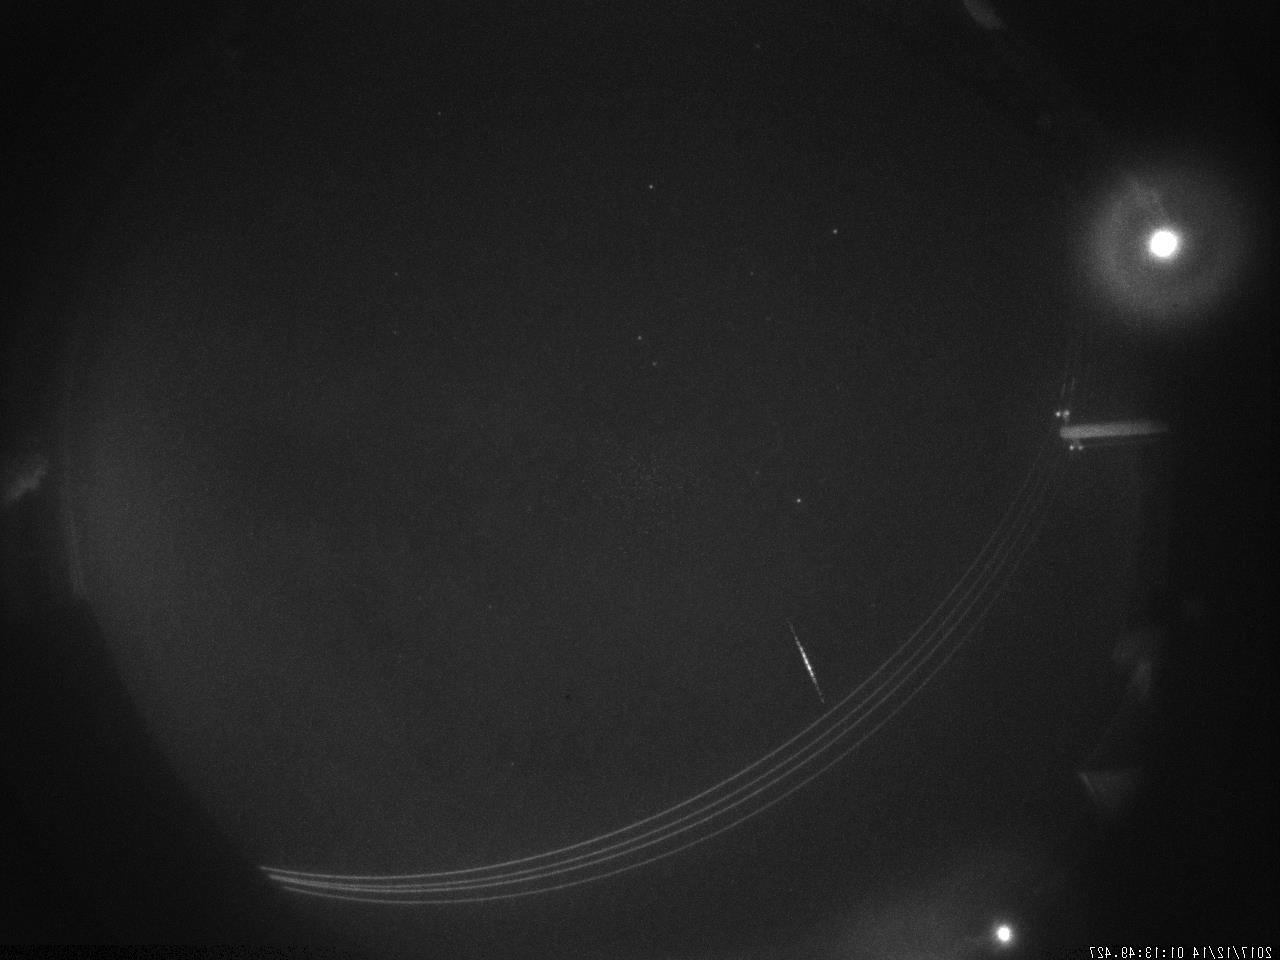meteor: (780, 605, 829, 705)
